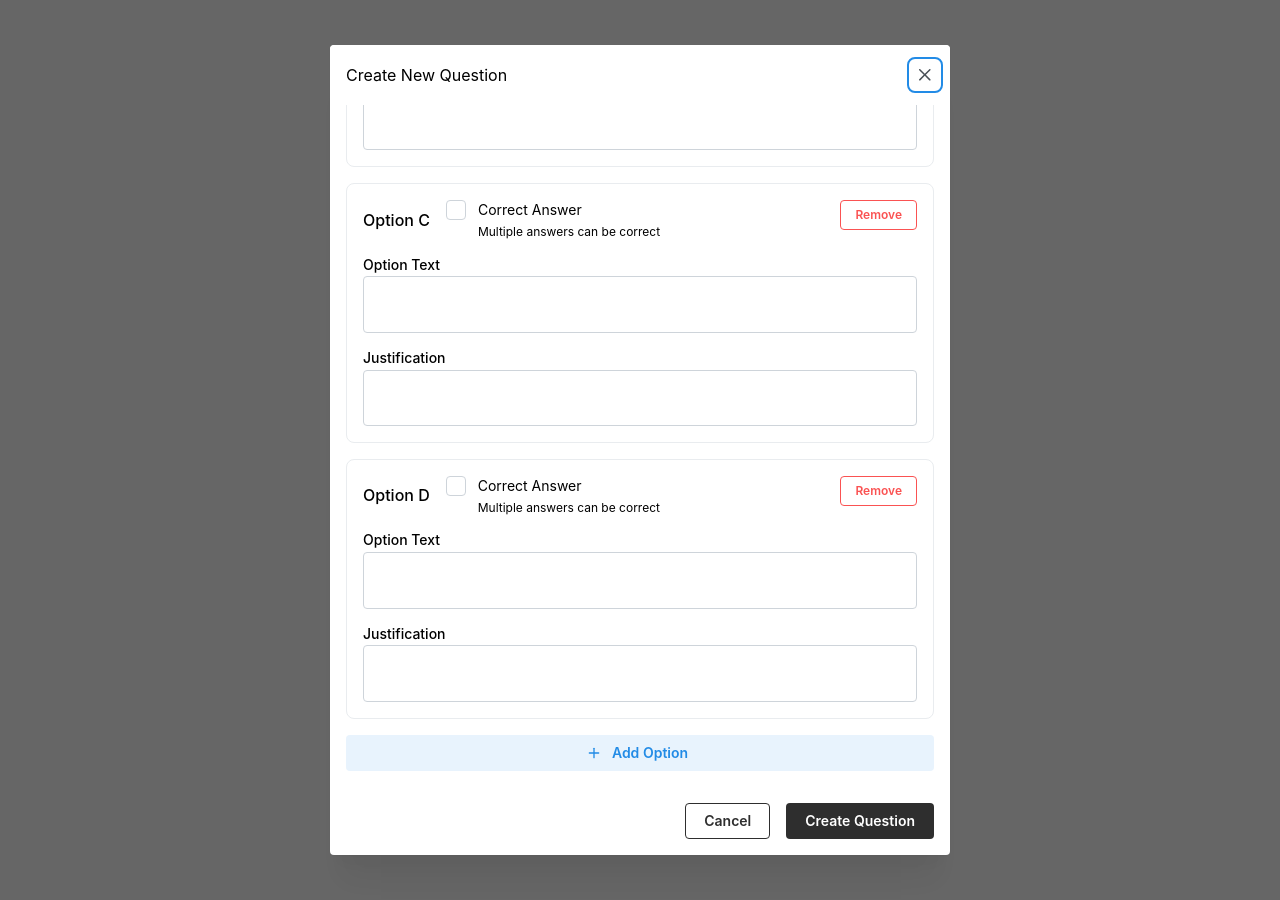
EditQuestionModal › adds a new option and labels it correctly
(page scrolled)
Expected: the text "Option D" is shown, [363,483,430,508]
Click the button "Add Option".
click(640, 753)  # box [346,735,934,771]
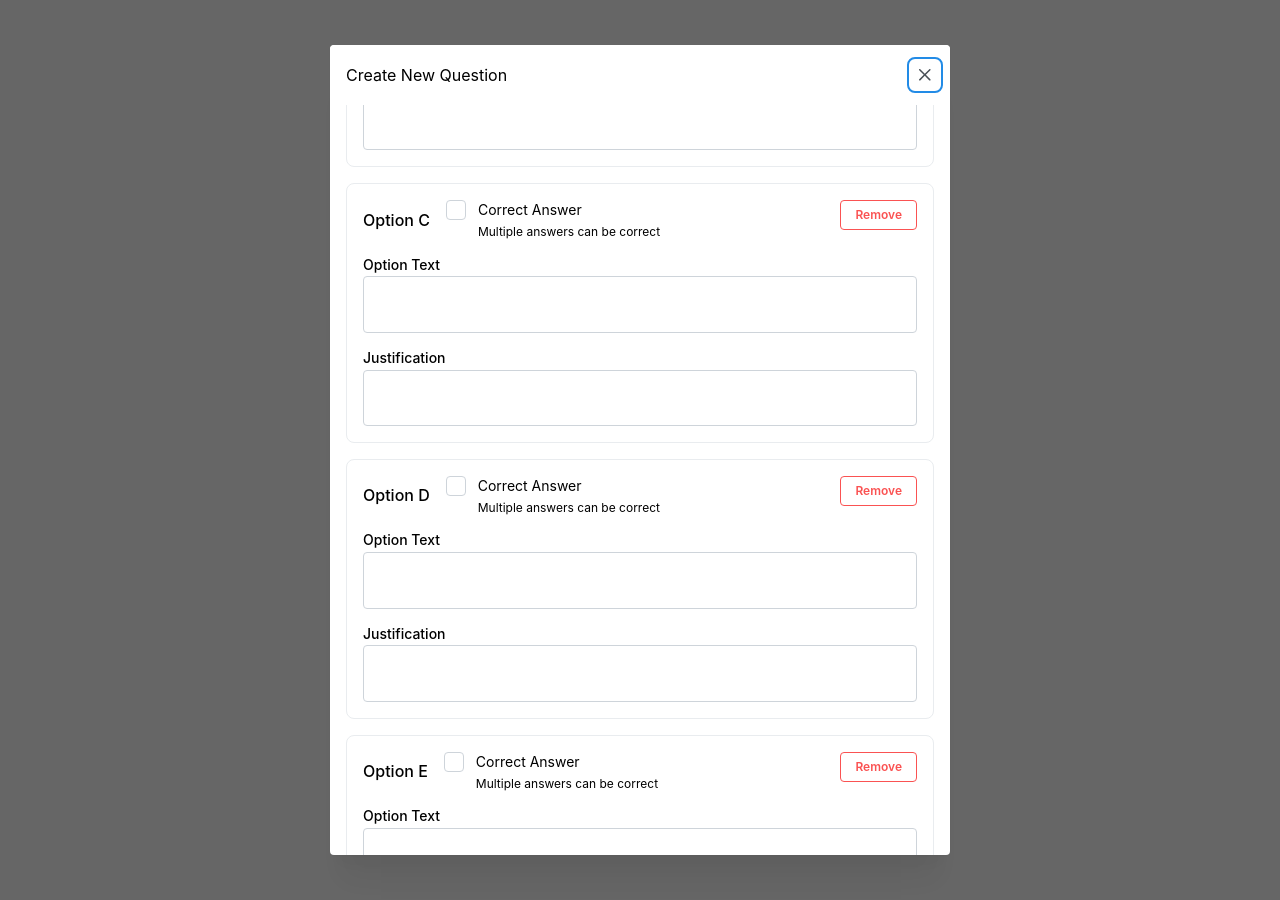
Result: the text "Option E" is shown at [363,759,428,784]
